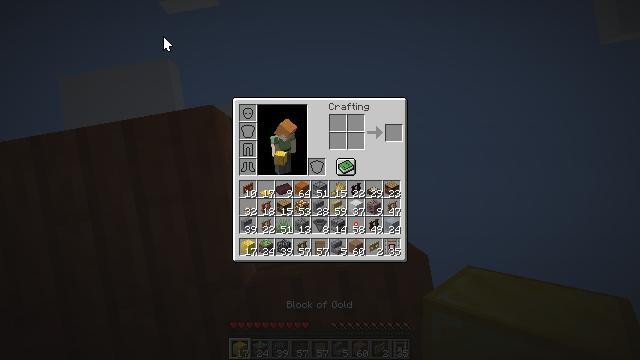cursor: (163, 36, 173, 52)
